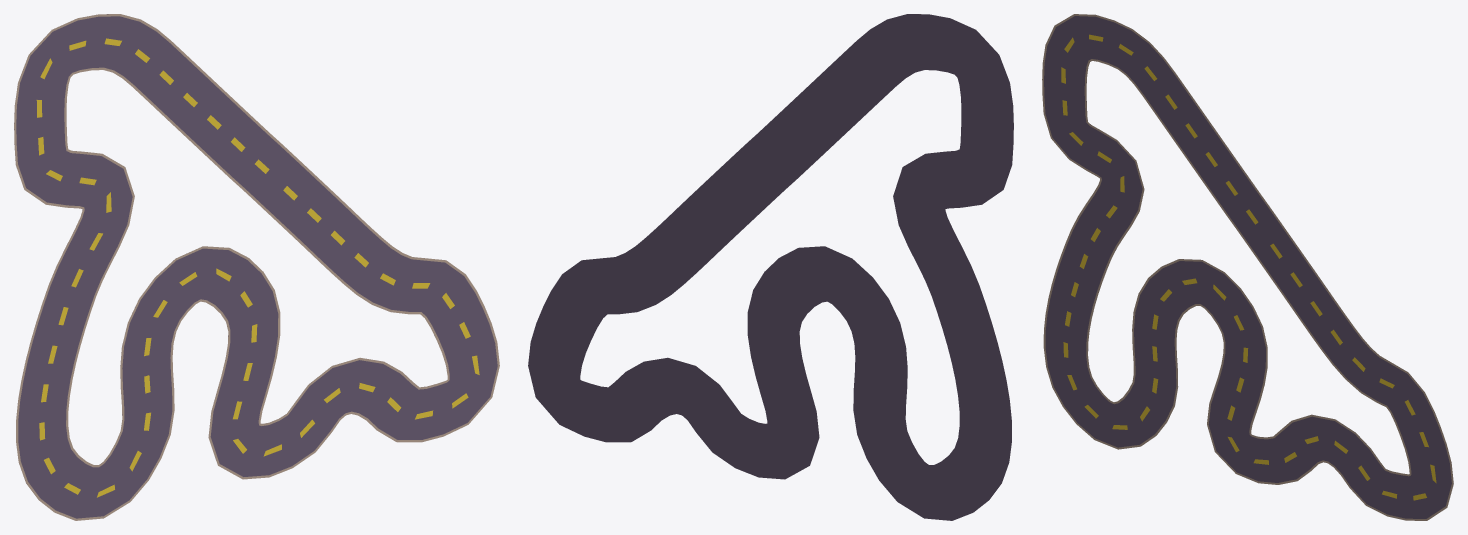
File: track.obj
3 views of the same model, side by side, from view 1: azimuth 30°, elevation 25°; view 2: azimuth 150°, elevation 25°; view 3: azimuth 330°, elevation 25° (orthographic). The views are drawn at different scales.
Bounding box in the file's own units: 8.8 × 8.8 × 0.002.
